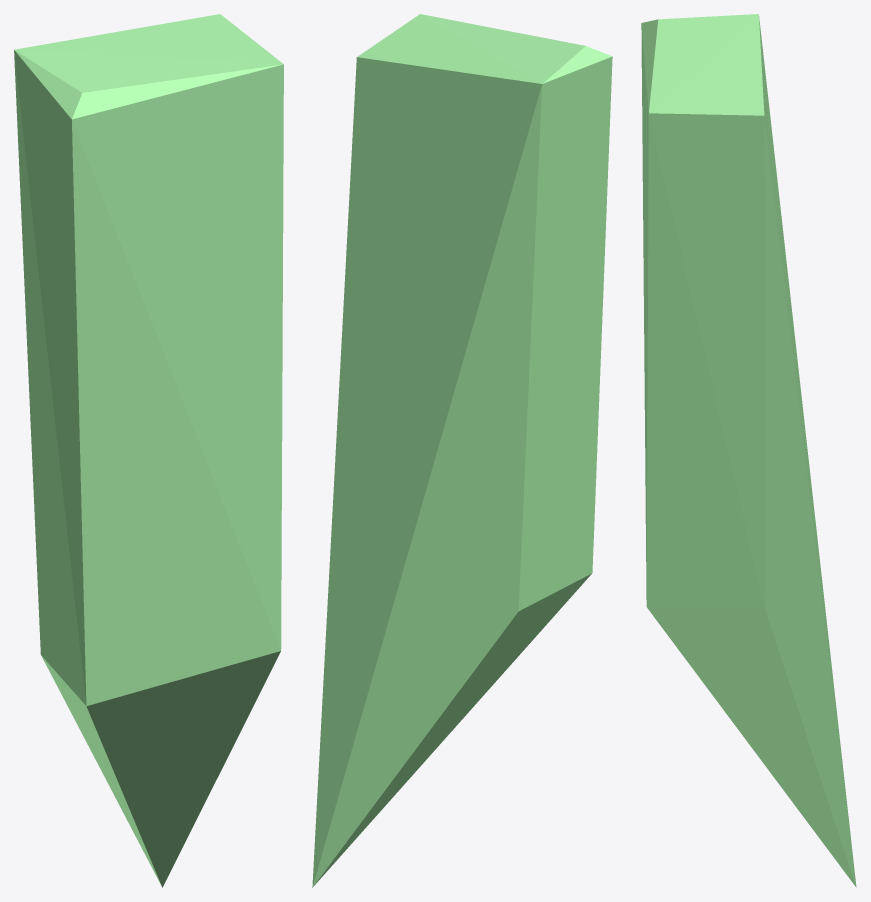
Rendered from panda_rightFinger_coll_4.dae.
3 views of the same model, side by side, from view 1: azimuth 30°, elevation 25°; view 2: azimuth 150°, elevation 25°; view 3: azimuth 270°, elevation 25° (orthographic). The views are drawn at different scales.
Parts seen in each view (by area): view 1: node; view 2: node; view 3: node.
Boxes of the visible parts, x1,y1,x2,y2 form: node: [14, 14, 283, 887]; node: [312, 14, 612, 887]; node: [641, 14, 856, 887].
Bounding box in the file's own units: 0.00386 × 0.0155 × 0.00384.
